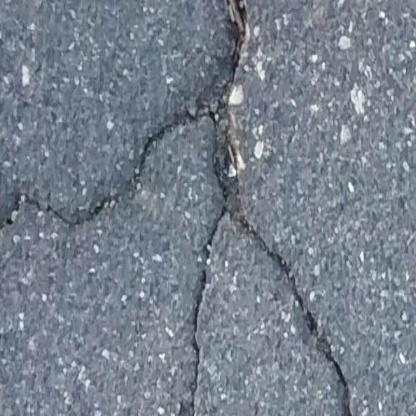Cracks: (0, 0, 357, 416), (186, 329, 202, 416)
